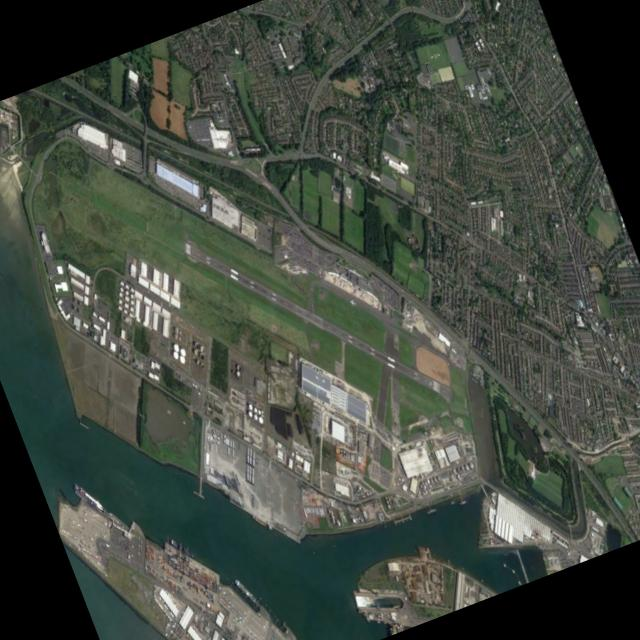plane: (349, 296, 357, 307)
ship: (73, 482, 105, 511), (234, 578, 256, 601)
storage-tank: (172, 349, 181, 360), (178, 354, 187, 364), (178, 346, 187, 355), (172, 342, 180, 351), (247, 403, 254, 411), (247, 409, 254, 417), (257, 415, 265, 422), (253, 413, 260, 420)
